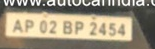0: (38, 19, 48, 34)
2: (88, 21, 98, 36), (49, 19, 58, 34)
4: (117, 21, 126, 37), (99, 22, 107, 36)
5: (108, 22, 116, 36)
A: (13, 18, 23, 33)
B: (63, 20, 73, 34)
P: (74, 20, 84, 35), (25, 19, 34, 34)
